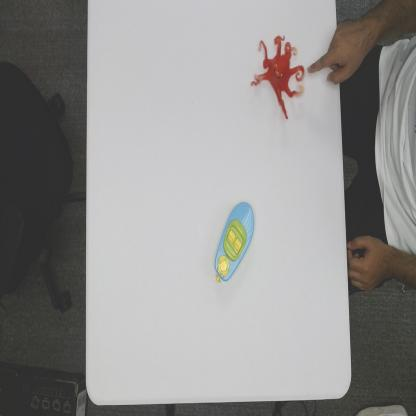Boat: (213, 200, 256, 286)
Hand: (307, 16, 371, 87)
Octopus: (250, 33, 306, 121)
